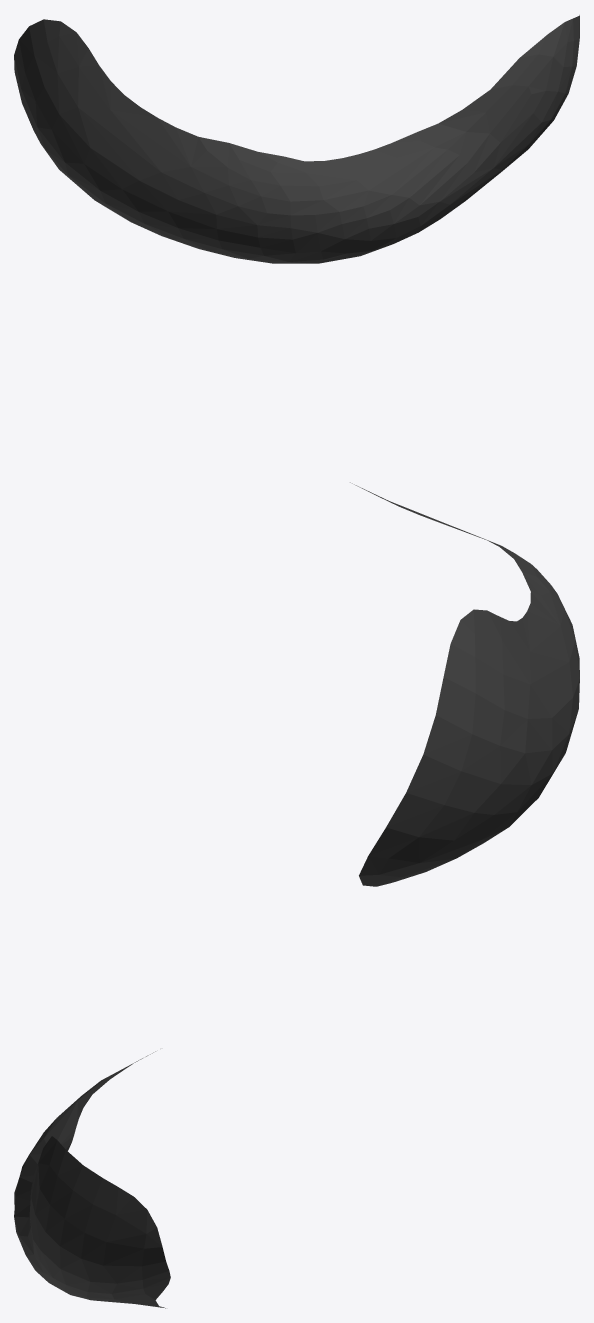
Rendered from Humerus_greater_tubercle.glb.
3 views of the same model, one above another, from view 1: azimuth 30°, elevation 25°; view 2: azimuth 150°, elevation 25°; view 3: azimuth 270°, elevation 25° (orthographic). The views are drawn at different scales.
Visible parts, largest first — view 1: Humerus_greater_tubercle; view 2: Humerus_greater_tubercle; view 3: Humerus_greater_tubercle.
Part boxes in pixels (x1,y1,x2,y2): Humerus_greater_tubercle: [14, 15, 579, 263]; Humerus_greater_tubercle: [350, 482, 579, 886]; Humerus_greater_tubercle: [14, 1051, 170, 1308].
Bounding box in the file's own units: 0.3446 × 0.1599 × 0.2861.
Materials: 1 (1 with a texture image).
